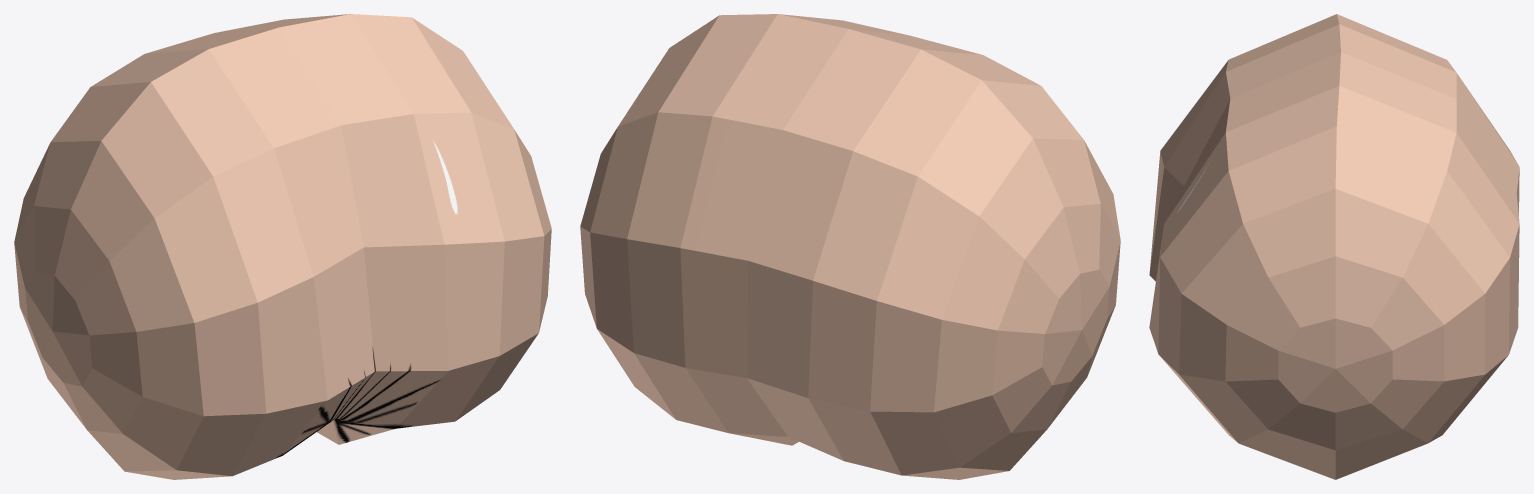
The model's file is Ass.fbx.
3 renders of one model, left to right at view 1: azimuth 30°, elevation 25°; view 2: azimuth 150°, elevation 25°; view 3: azimuth 270°, elevation 25°, orthographic. The views are drawn at different scales.
Parts seen in each view (by area): view 1: Ass; view 2: Ass; view 3: Ass.
Part boxes in pixels (bbox=[...]): Ass: bbox=[14, 14, 551, 479]; Ass: bbox=[580, 14, 1120, 479]; Ass: bbox=[1149, 14, 1519, 479].
Size of the model in its own units: 1061 by 945 by 829.
